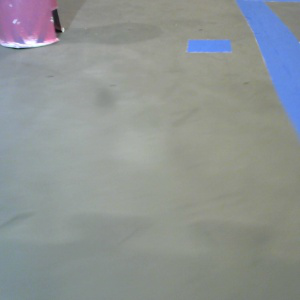middle: (1, 1, 67, 53)
